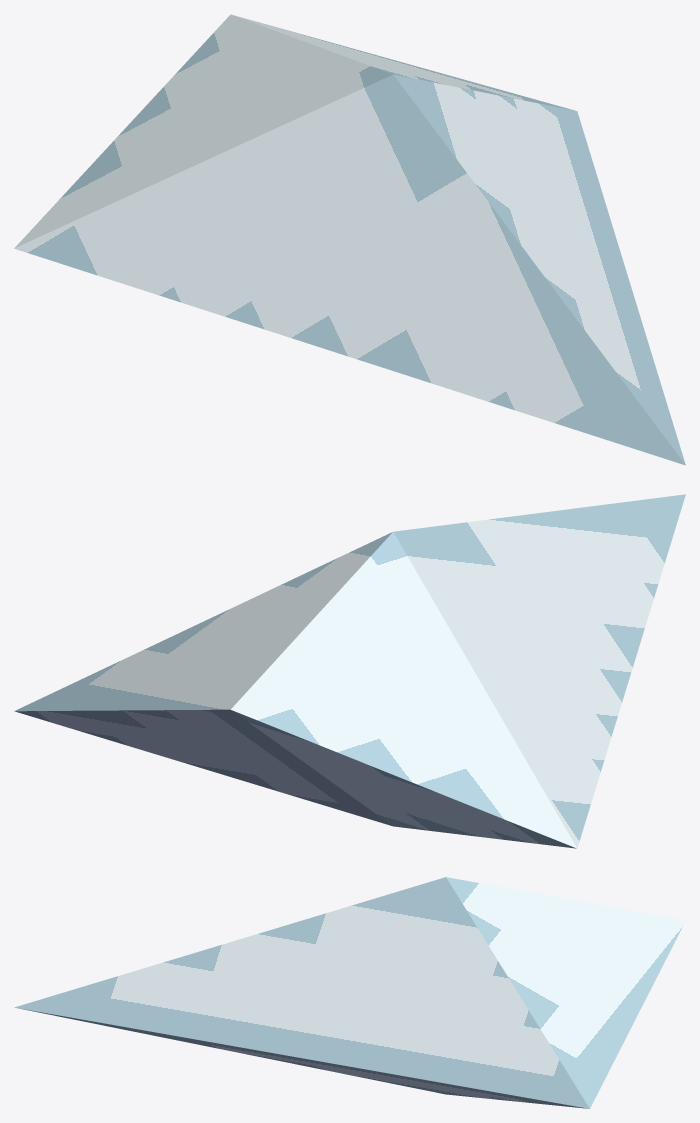
The model's file is boid.glb.
The picture shows the model from 3 angles, top to bottom: view 1: azimuth 30°, elevation 25°; view 2: azimuth 150°, elevation 25°; view 3: azimuth 270°, elevation 25°; orthographic projection. The views are drawn at different scales.
Parts seen in each view (by area): view 1: cuboid; view 2: cuboid; view 3: cuboid.
Part boxes in pixels (x1,y1,x2,y2): cuboid: (14,14,685,465); cuboid: (14,494,685,848); cuboid: (14,877,685,1108).
Size of the model in its own units: 0.625 by 0.3125 by 0.875.
Materials: 1 (1 with a texture image).
